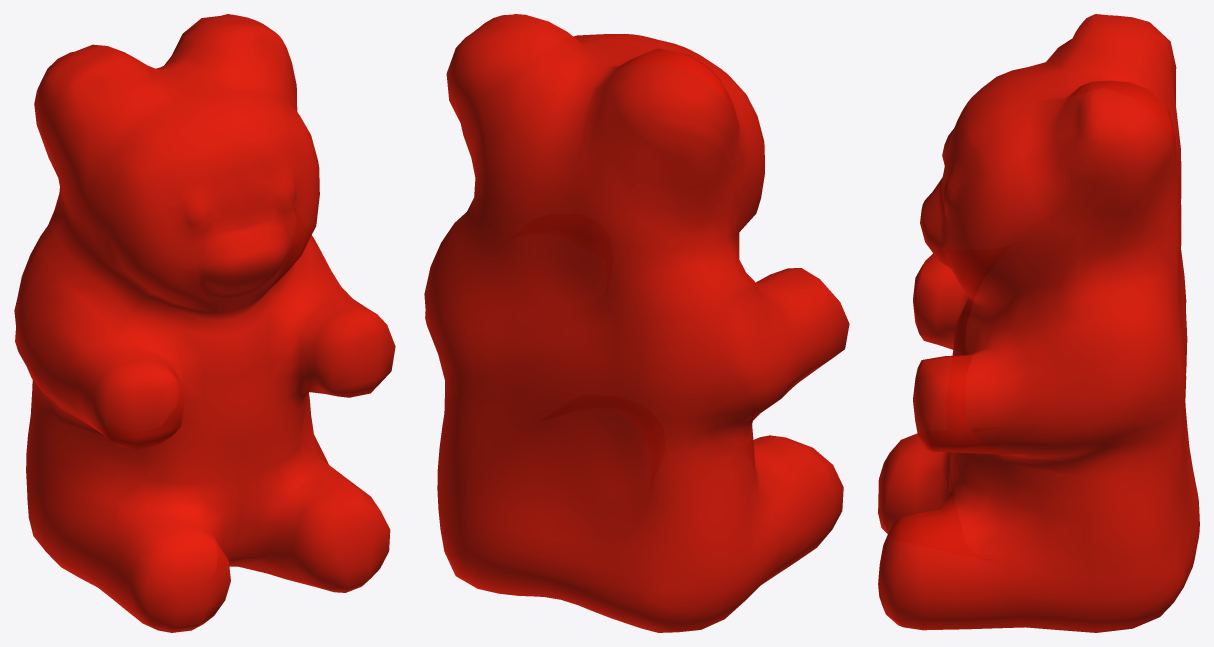
File: gummy_bear.fbx
The picture shows the model from 3 angles, left to right: view 1: azimuth 30°, elevation 25°; view 2: azimuth 150°, elevation 25°; view 3: azimuth 270°, elevation 25°; orthographic projection. The views are drawn at different scales.
Visible parts, largest first — view 1: gummy_bear; view 2: gummy_bear; view 3: gummy_bear.
Boxes of the visible parts, <box> form: gummy_bear: <box>14,14,395,632</box>; gummy_bear: <box>424,14,849,632</box>; gummy_bear: <box>878,14,1199,632</box>.
Size of the model in its own units: 234 by 384 by 211.
